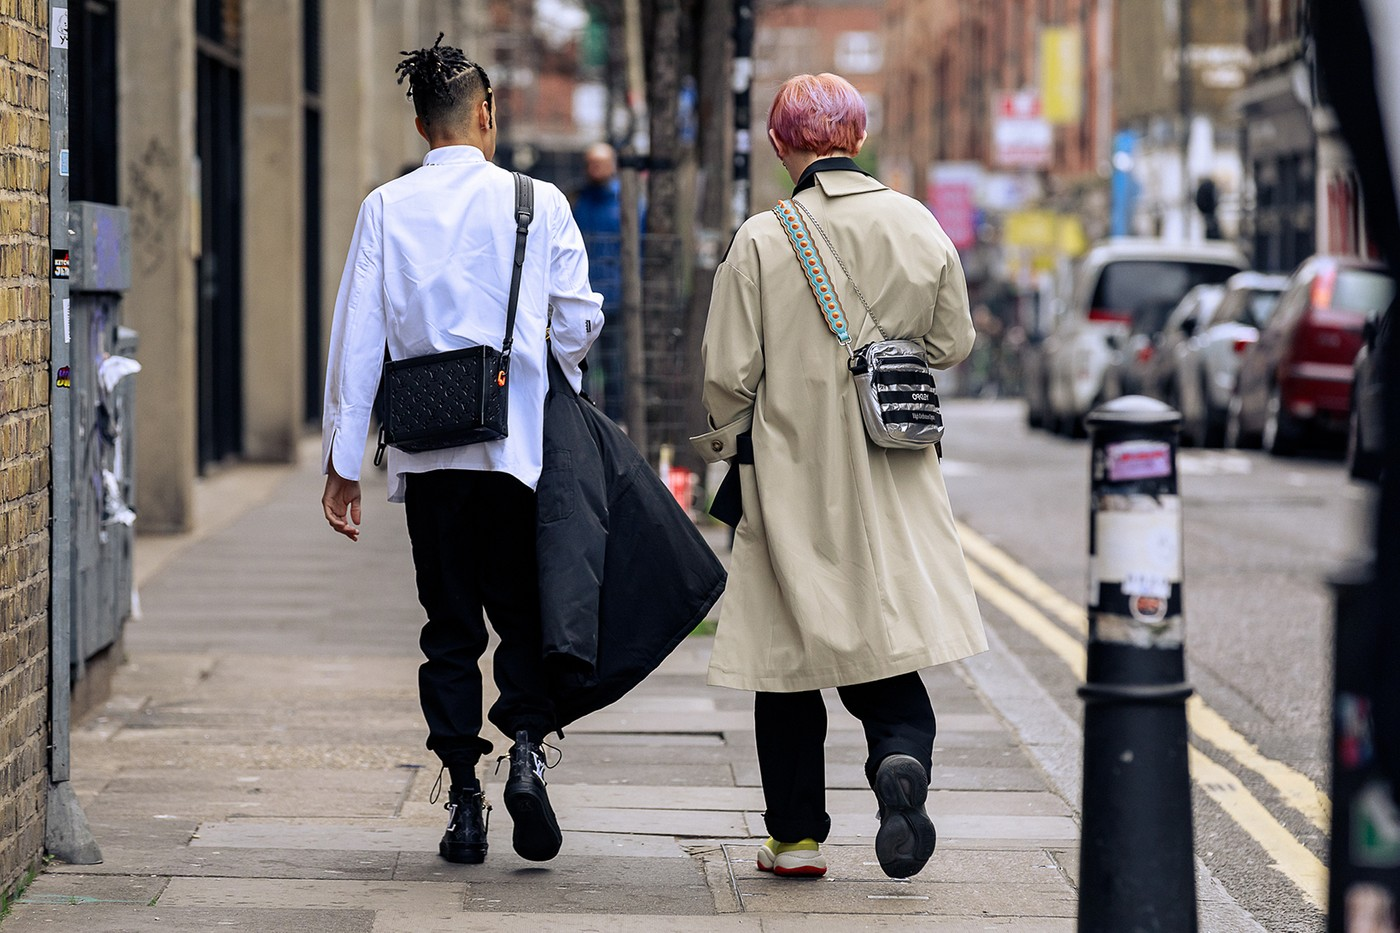Person: (691, 71, 989, 878), (321, 32, 605, 864)
